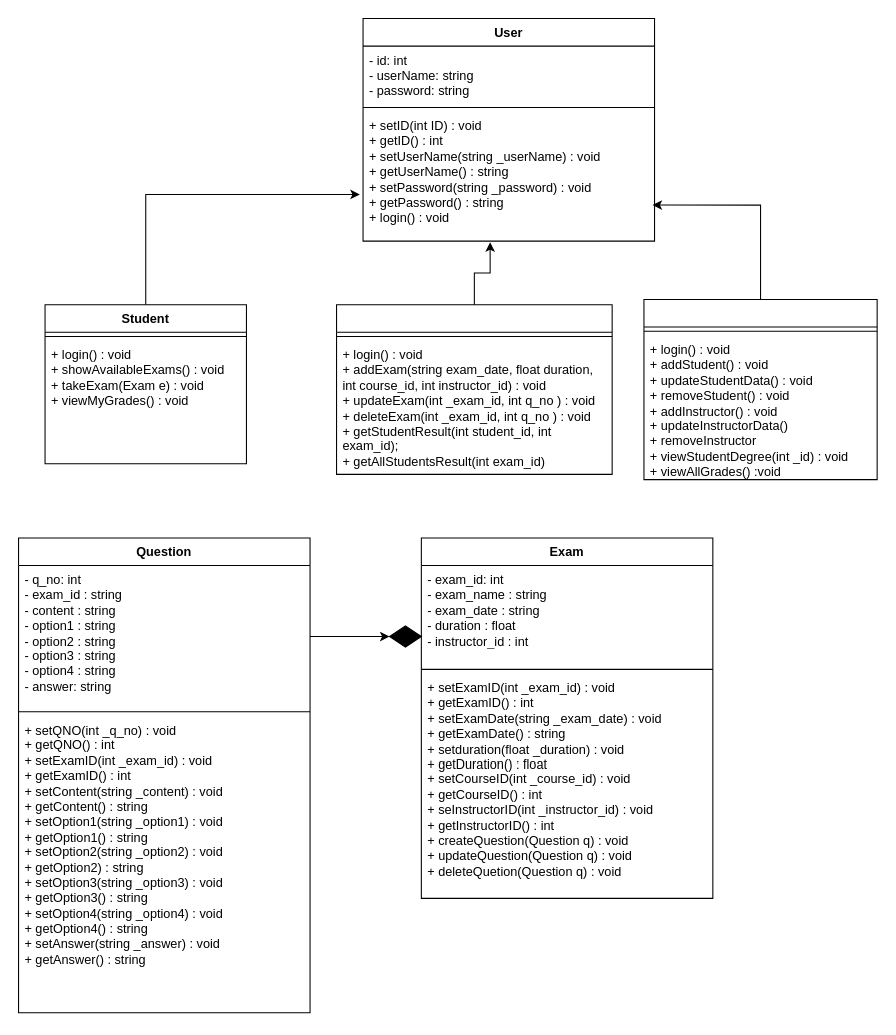
Some shapes in this 896 by 1035 pixel diagram are drawn without their labels. The shapes that lost their labels are listed below. From the top down, each one's box as (x1, y1, x2, y2) in pixels, then its label:
(335, 304, 612, 474): Instrucor
(643, 298, 877, 480): Admin
